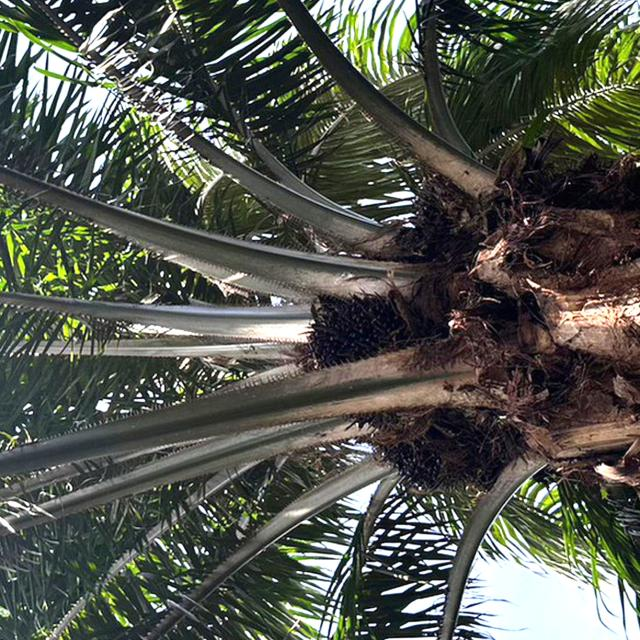unripe: (371, 403, 527, 498), (298, 282, 427, 376)
